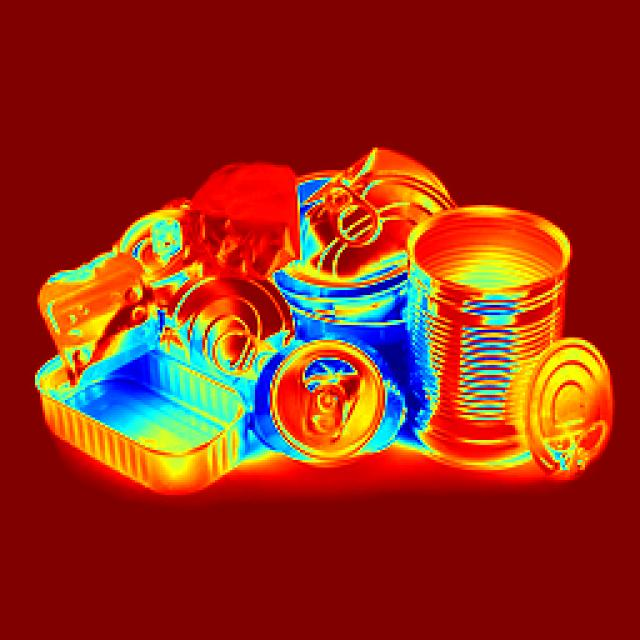Aluminium Food Cans: (405, 215, 622, 497), (14, 341, 240, 495), (278, 164, 408, 310), (166, 248, 295, 374), (265, 345, 373, 432)
